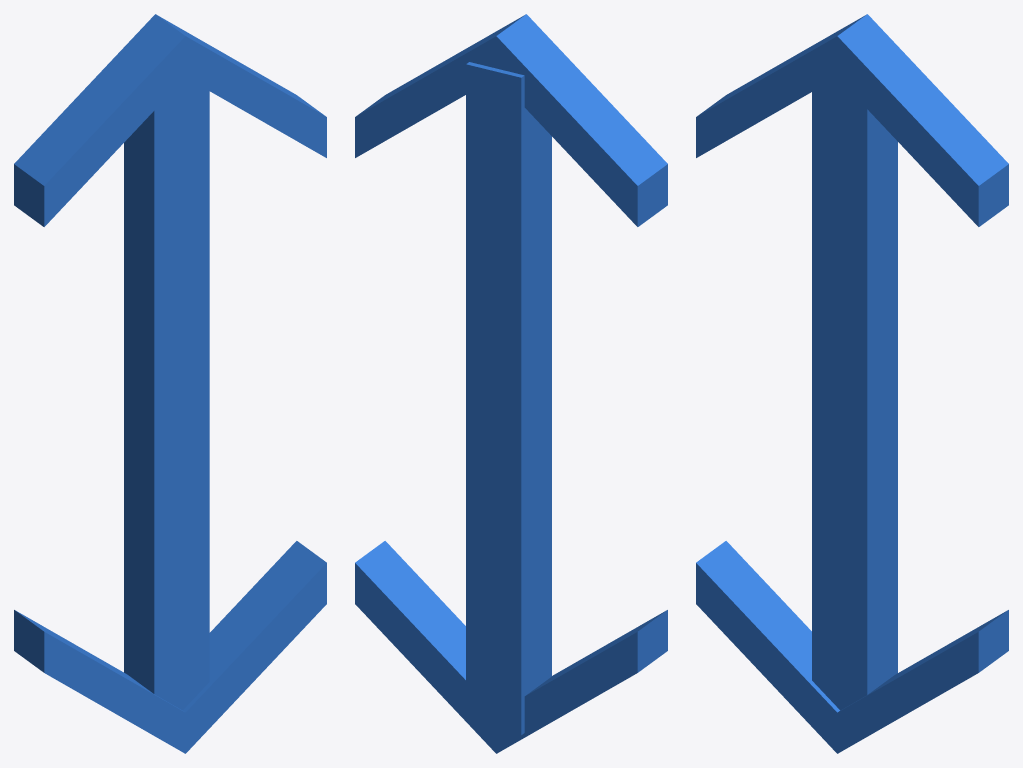
File: rune04.fbx
3 renders of one model, left to right at view 1: azimuth 30°, elevation 25°; view 2: azimuth 150°, elevation 25°; view 3: azimuth 330°, elevation 25°, orthographic.
Visible parts, largest first — view 1: rune04; view 2: rune04; view 3: rune04.
Part boxes in pixels (left/top/right/bottom): rune04: left=14, top=14, right=326, bottom=753; rune04: left=355, top=14, right=667, bottom=753; rune04: left=696, top=14, right=1008, bottom=753.
Size of the model in its own units: 19.88 by 48.23 by 4.07.
